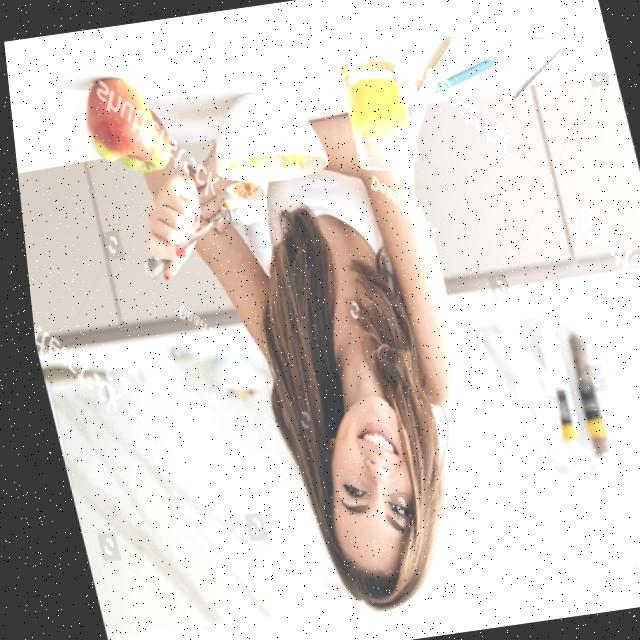eating-person: (62, 32, 526, 640)
